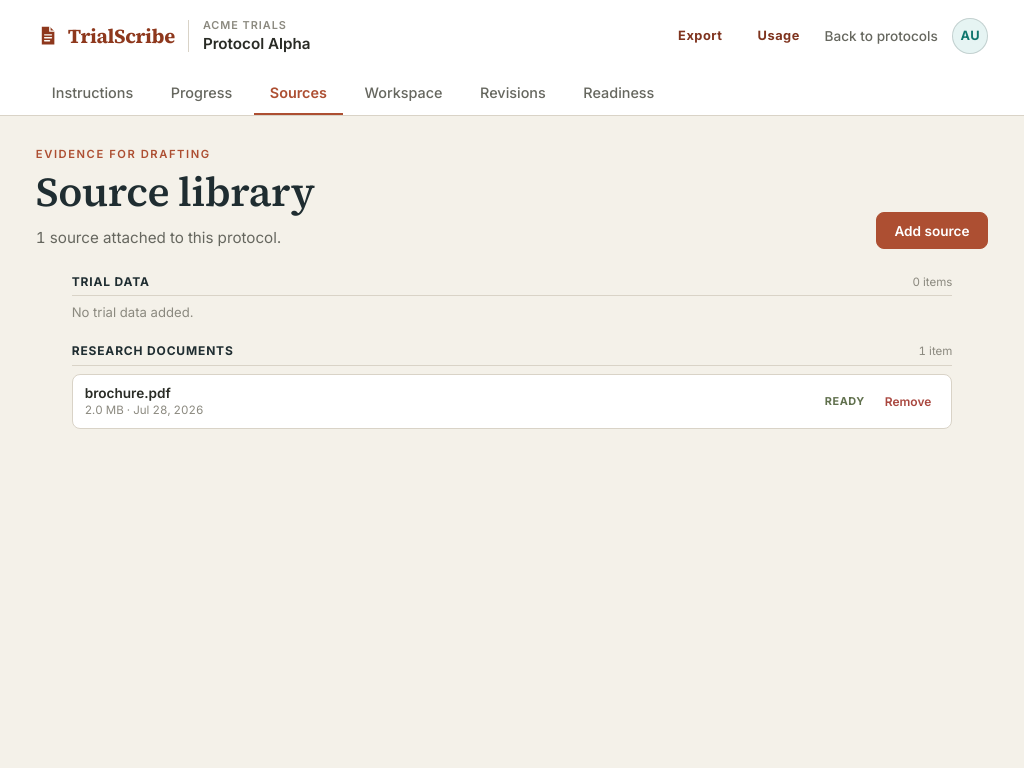
Test case: SourceLibraryPage › states a fixed public failure when removal fails
The width and height of the screenshot is (1024, 768).
Click the button with aria-label "Remove brochure.pdf": (908, 401) [877,388,939,414]
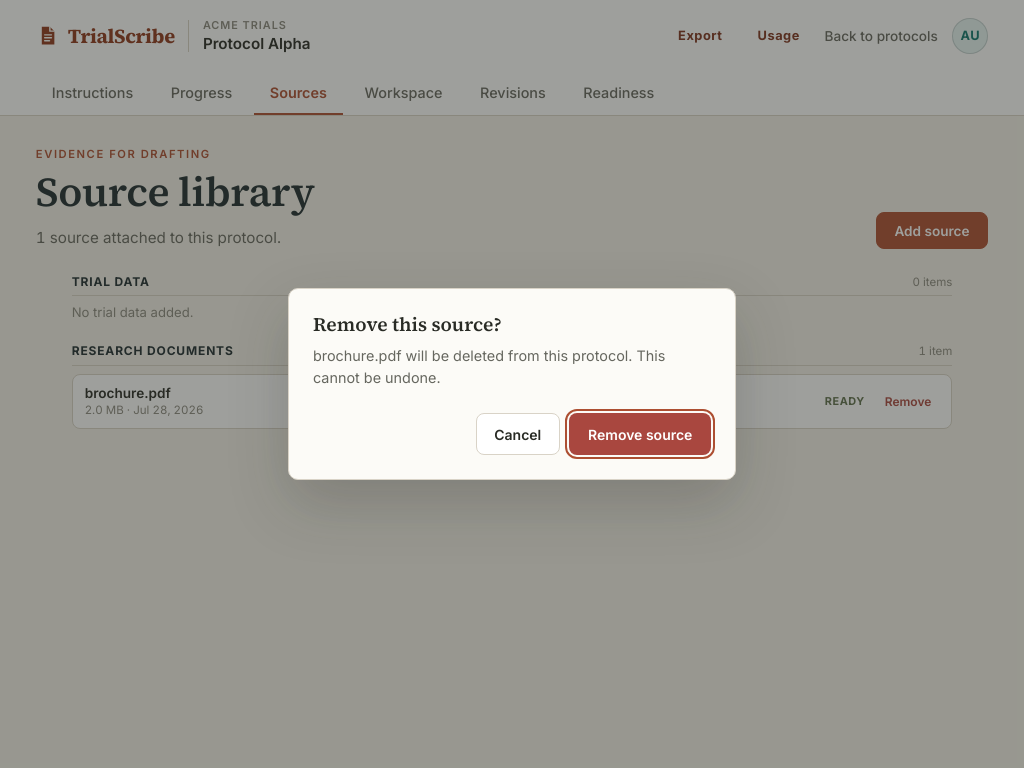
Click the button "Remove source": (640, 434) [570,413,711,455]
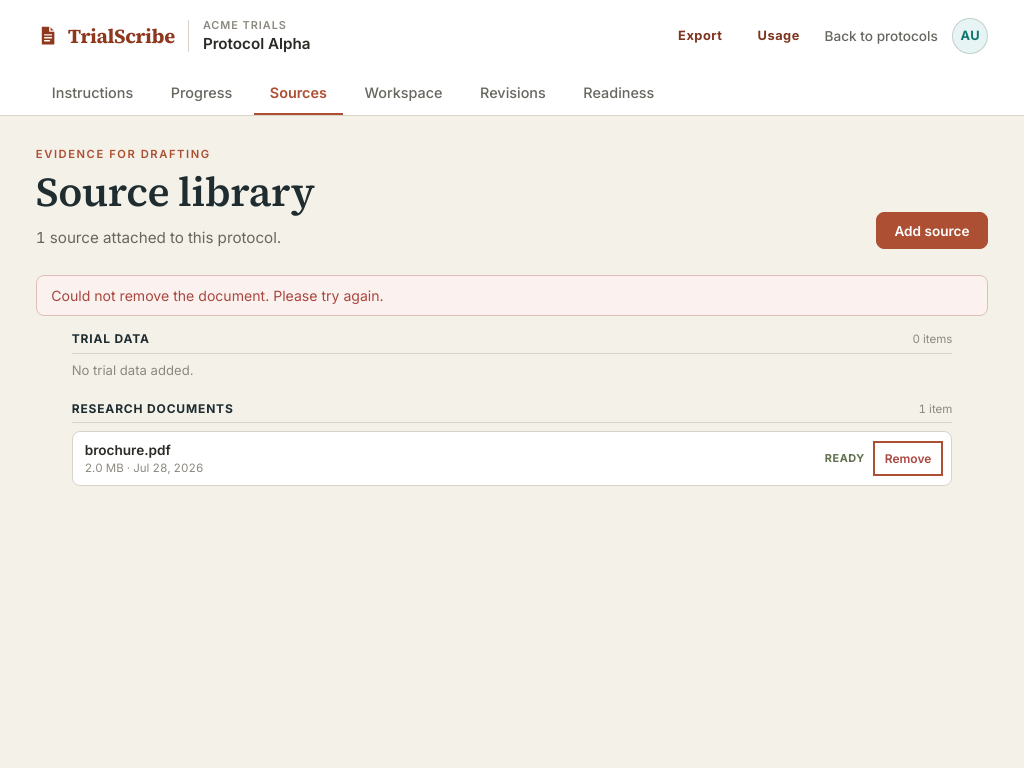
Expected: the text "brochure.pdf" is shown, [85,442,171,458]
Expected: the text "Could not remove the document. Please try again." is shown, [36,275,988,316]
